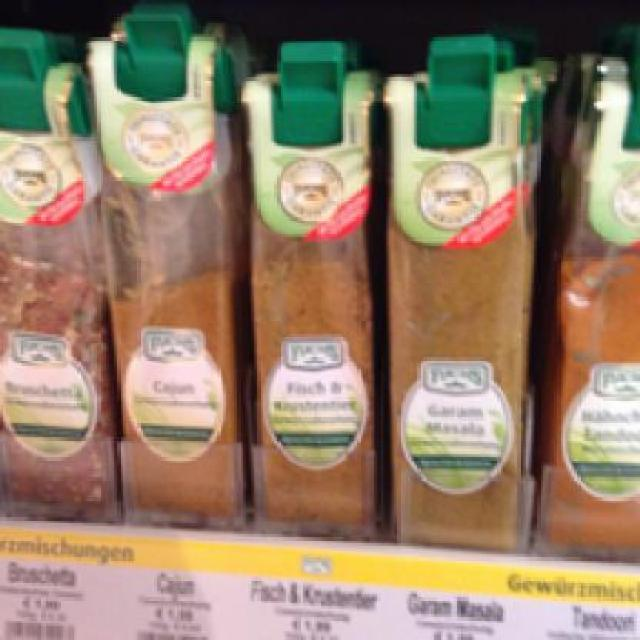Spices: (83, 31, 243, 526), (377, 71, 537, 548), (242, 71, 372, 532), (0, 61, 115, 518)
